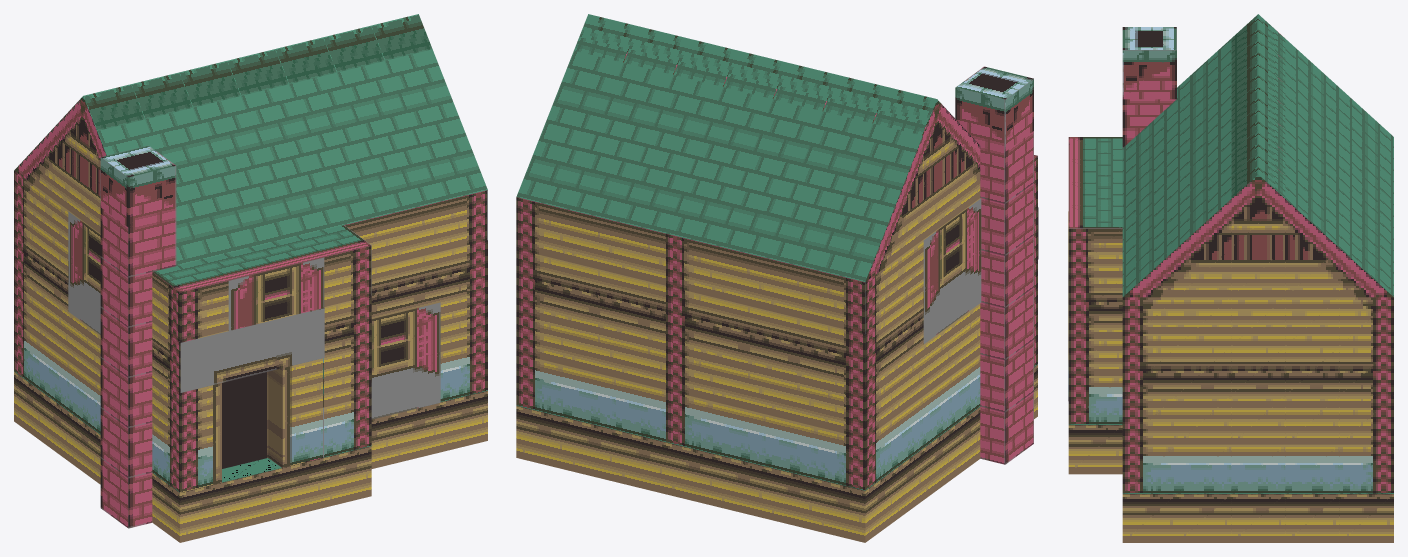
File: house4.glb
The picture shows the model from 3 angles, left to right: view 1: azimuth 30°, elevation 25°; view 2: azimuth 150°, elevation 25°; view 3: azimuth 270°, elevation 25°; orthographic projection. The views are drawn at different scales.
Parts seen in each view (by area): view 1: Scenario.004, Scenario.001; view 2: Scenario.004, Scenario.001; view 3: Scenario.004, Scenario.001.
Part boxes in pixels (<box>): Scenario.004: <box>14,14,487,542</box>; Scenario.001: <box>100,145,176,528</box>; Scenario.004: <box>516,14,1038,542</box>; Scenario.001: <box>955,66,1033,464</box>; Scenario.004: <box>1068,14,1393,542</box>; Scenario.001: <box>1122,27,1176,147</box>.
Size of the model in its own units: 7.5 by 7.5 by 6.02.
1 material, 1 textured.
